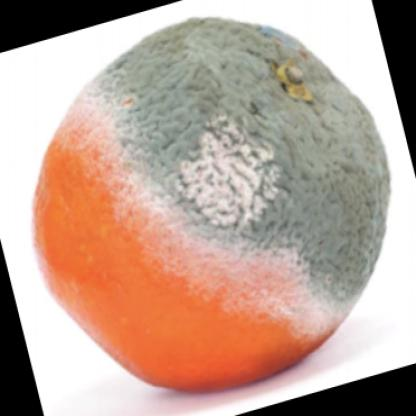rotten_orange: (30, 15, 399, 403)
